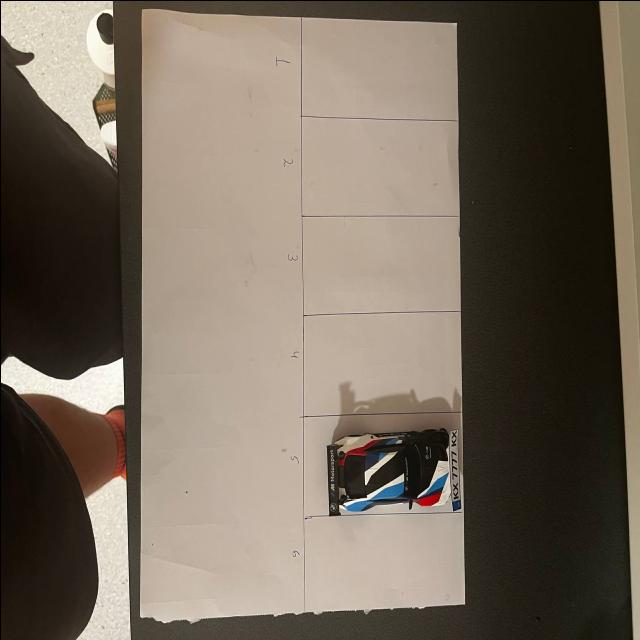cars: (301, 415, 463, 517)
